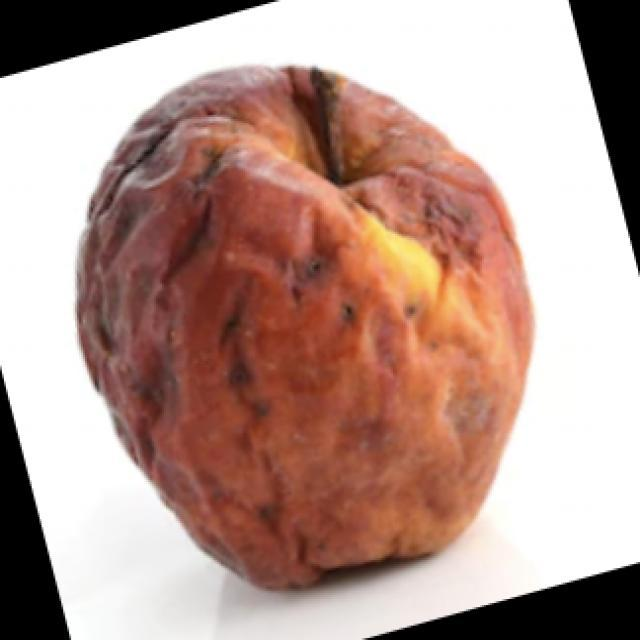Rotten: (75, 50, 539, 592)
